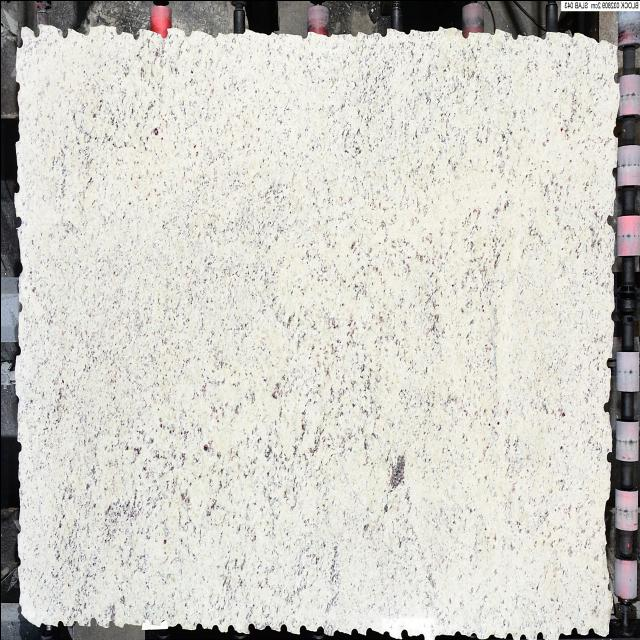chapa: (12, 23, 618, 636)
veio: (14, 213, 24, 230), (157, 26, 169, 40), (12, 179, 21, 197), (31, 22, 41, 38), (278, 620, 288, 636), (244, 620, 256, 633), (533, 627, 545, 640), (60, 24, 70, 39), (603, 449, 613, 464), (81, 25, 92, 37), (87, 614, 98, 626), (132, 26, 140, 42), (106, 618, 116, 630), (297, 622, 307, 634), (602, 399, 610, 414), (605, 210, 613, 225), (460, 26, 470, 38), (569, 623, 578, 636), (604, 355, 612, 369)
